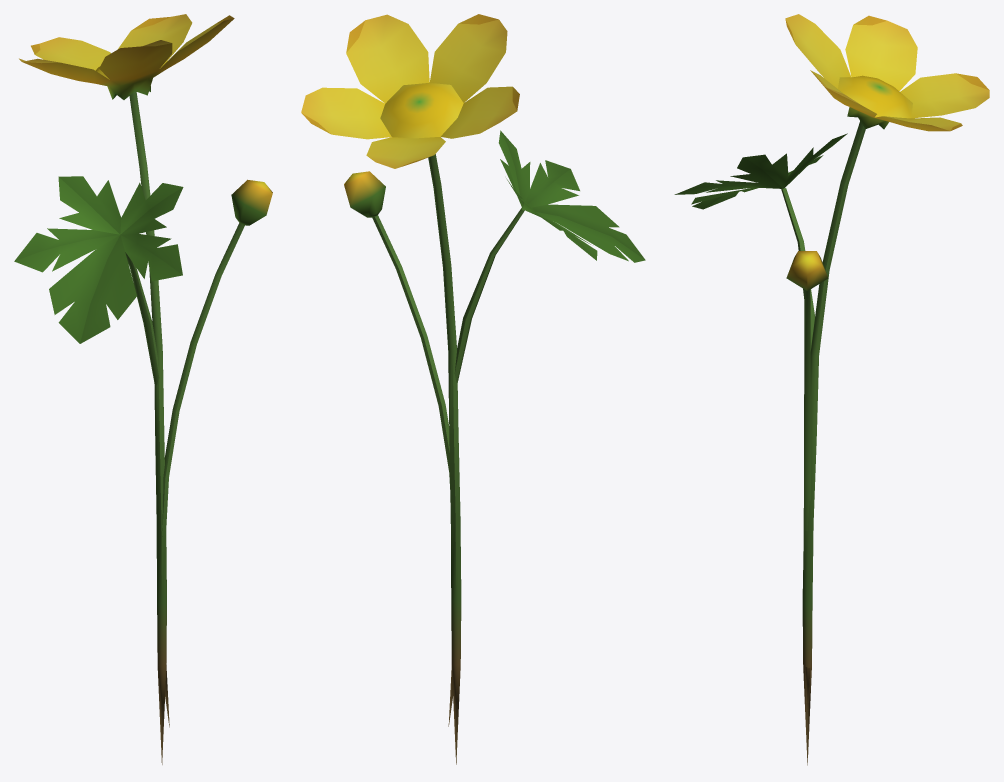
3 views of the same model, side by side, from view 1: azimuth 30°, elevation 25°; view 2: azimuth 150°, elevation 25°; view 3: azimuth 270°, elevation 25° (orthographic).
Parts seen in each view (by area): view 1: base.517; view 2: base.517; view 3: base.517.
Part boxes in pixels (left/top/right/bottom): base.517: left=14, top=14, right=272, bottom=764; base.517: left=301, top=14, right=645, bottom=764; base.517: left=674, top=14, right=989, bottom=765.
Bounding box in the file's own units: 0.1801 × 0.5 × 0.1944.
